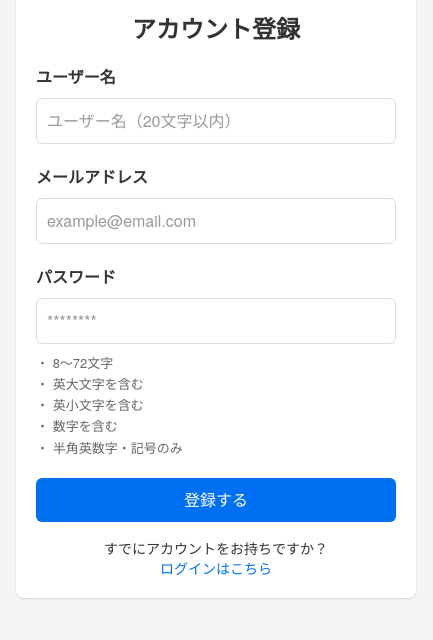
アカウント登録画面 › メールアドレスが重複している場合はメールアドレス欄にエラーを表示してフォーカスを移す
In the field labelled "ユーザー名": point(216, 121) [36,98,396,144], type "taro"
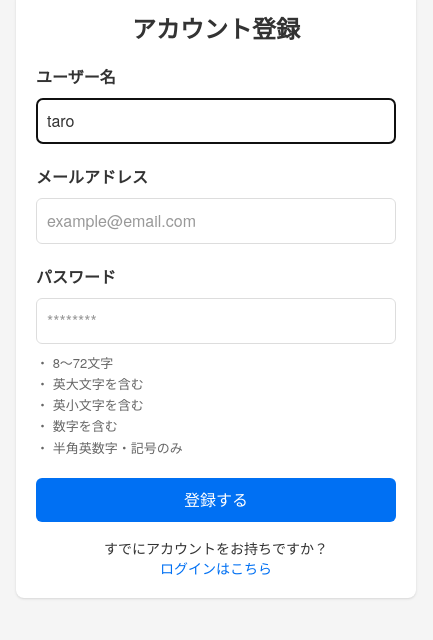
In the field labelled "メールアドレス": point(216, 221) [36,198,396,244], type "taro@example.com"
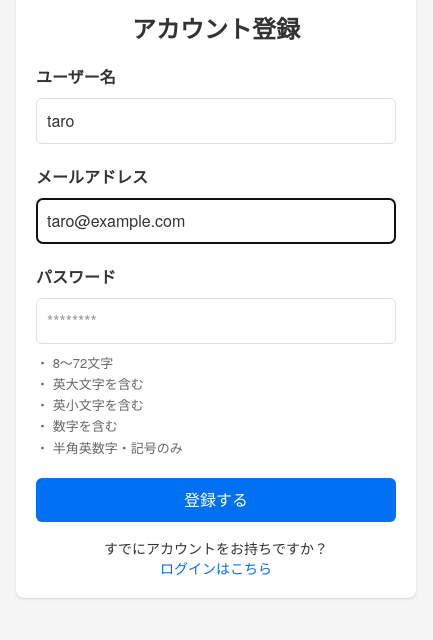
In the password field labelled "パスワード": point(216, 321) [36,298,396,344], type "Password123"
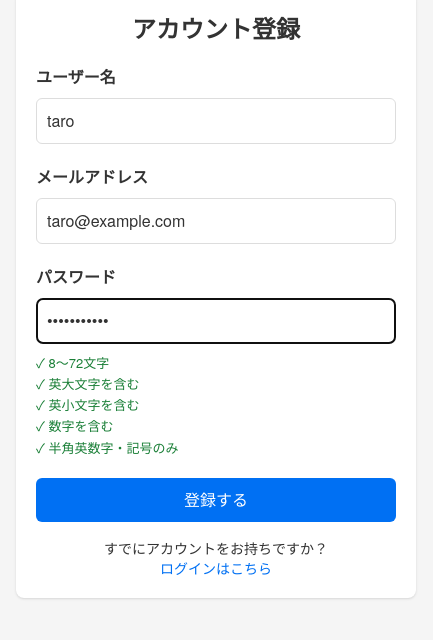
Click the button "登録する": point(216, 500) [36,478,396,522]
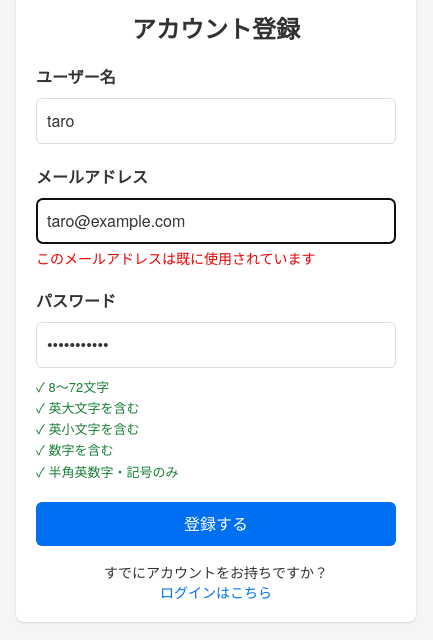
Result: the text "このメールアドレスは既に使用されています" is shown at [36,248,316,268]
